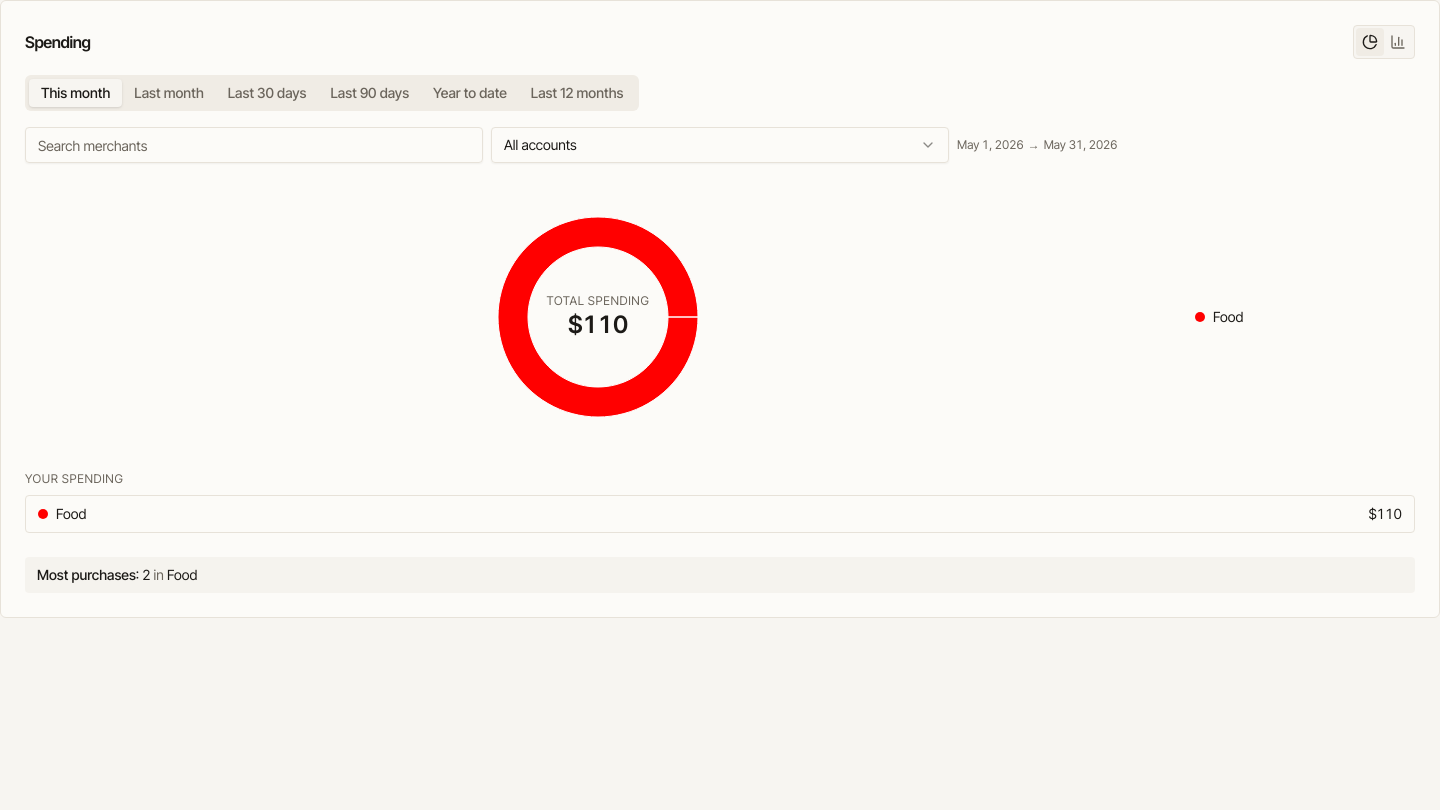
Test: SpendingWidget › filters spending by the merchant search input
In the search field with test id "spending-widget-merchant-input": (254, 145) [25, 127, 483, 163], type "star"
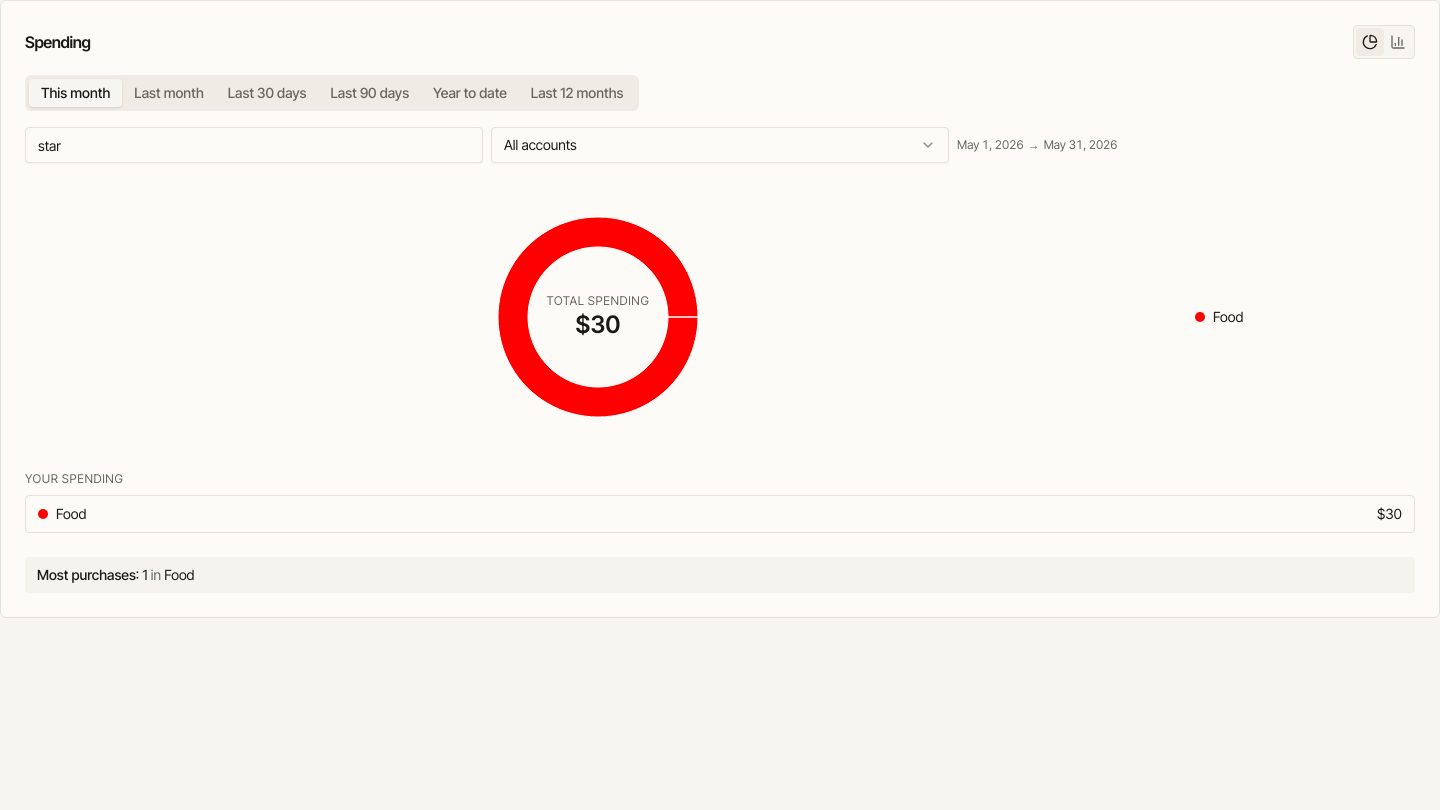
Result: the element with test id "spending-widget-center" shows "$30" at [576, 310, 620, 339]
